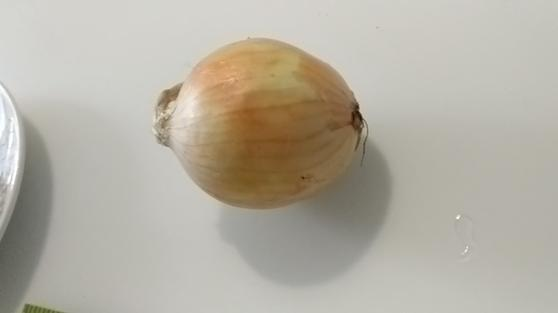onion: (154, 37, 371, 209)
